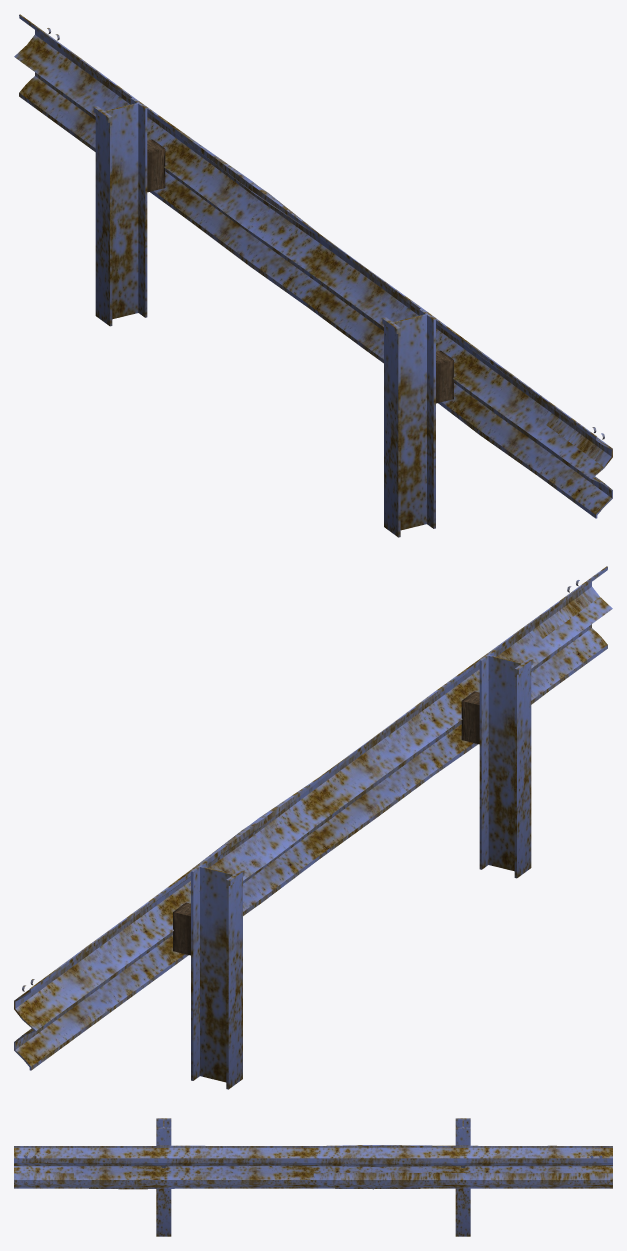
Rendered from guardrail_4m.glb.
3 views of the same model, one above another, from view 1: azimuth 30°, elevation 25°; view 2: azimuth 150°, elevation 25°; view 3: azimuth 270°, elevation 25° (orthographic). The views are drawn at different scales.
Parts seen in each view (by area): view 1: guardrail_4m_galvanized, guardrail_4m_wood_rough; view 2: guardrail_4m_galvanized, guardrail_4m_wood_rough; view 3: guardrail_4m_galvanized.
Boxes of the visible parts, box(x1,y1,x2,y2) form: guardrail_4m_galvanized: box(14, 14, 612, 537); guardrail_4m_wood_rough: box(147, 139, 453, 403); guardrail_4m_galvanized: box(14, 566, 612, 1089); guardrail_4m_wood_rough: box(173, 691, 479, 955); guardrail_4m_galvanized: box(14, 1118, 612, 1236).
Size of the model in its own units: 0.3273 by 0.8 by 4.
Materials: 2 (2 with a texture image).
